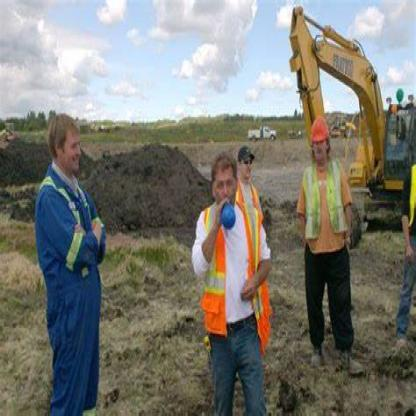person: (27, 95, 125, 404), (180, 135, 268, 410), (289, 101, 362, 368)
